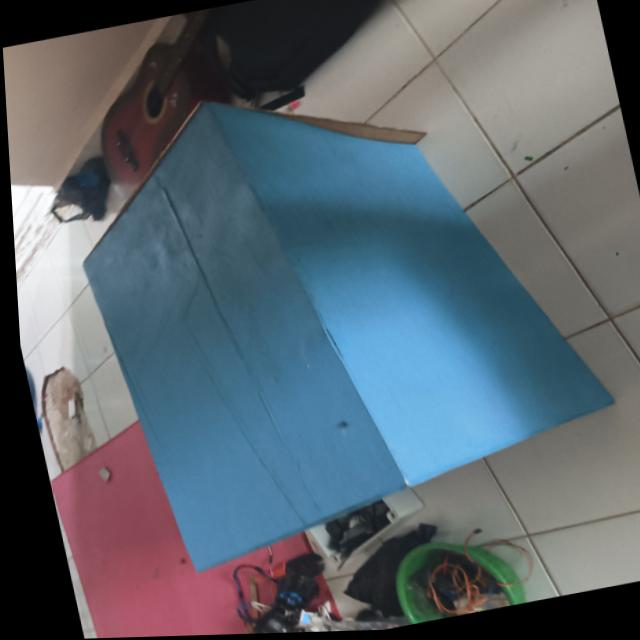blue_box: (39, 35, 626, 601)
